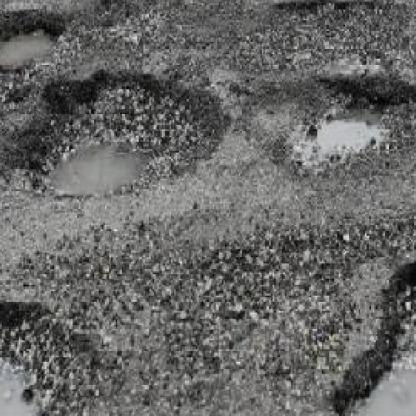pothole: (10, 65, 218, 192), (242, 73, 416, 184), (326, 248, 416, 416), (0, 285, 112, 416), (266, 0, 416, 78), (0, 3, 60, 170), (87, 0, 181, 32)
